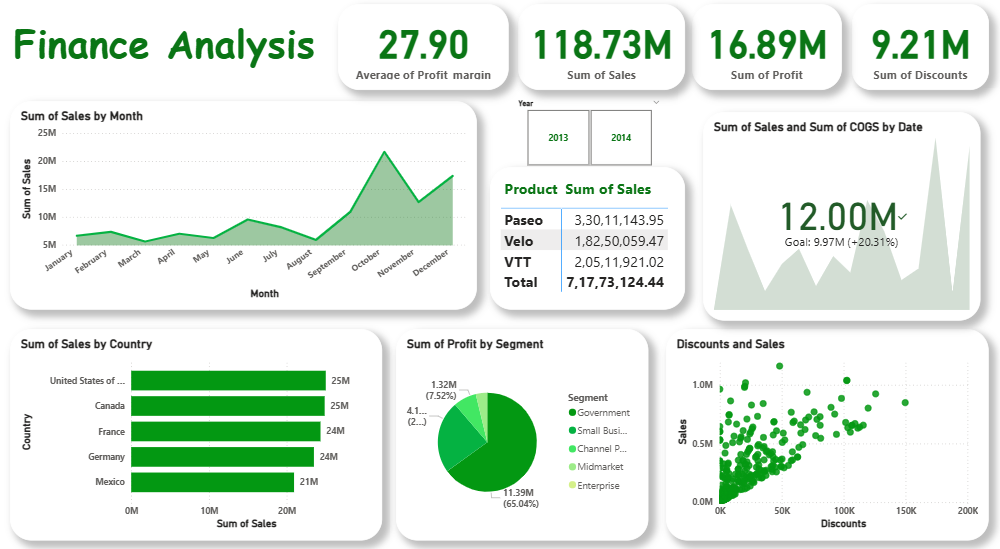

What the dashboard file says about the page in this screenshot:
{"tool":"powerbi","page":{"name":"Page 1","canvas":[1400,800],"ordinal":0},"visuals":[{"type":"barChart","fields":{"Category":["financials.Country"],"Y":["Sum(financials.Sales)"]},"box":[20.1,478.9,519.1,294.7],"z":0},{"type":"pieChart","fields":{"Category":["financials.Segment"],"Y":["Sum(financials.Profit)"]},"box":[557.7,478.9,351.7,294.7],"z":1000},{"type":"areaChart","fields":{"Category":["financials.Date.Variation.Date Hierarchy.Month"],"Y":["Sum(financials.Sales)"]},"box":[20.1,160.8,651.4,291.4],"z":2000},{"type":"scatterChart","fields":{"Y":["financials.Sales"],"X":["financials.Discounts"]},"box":[934.4,478.9,450.5,294.7],"z":3000},{"type":"kpi","fields":{"Indicator":["Sum(financials.Sales)"],"TrendLine":["financials.Date"],"Goal":["Sum(financials.COGS)"]},"box":[986.4,175.8,386.8,291.4],"z":4000},{"type":"textbox","box":[19.5,36.3,496.4,115.7],"z":5000},{"type":"slicer","fields":{"Values":["financials.Year"]},"box":[715.3,152,223.1,104.6],"z":6000},{"type":"pivotTable","fields":{"Rows":["financials.Product"],"Values":["Sum(financials.Sales)"]},"box":[688.8,252.4,271.9,199.4],"z":7000},{"type":"card","fields":{"Values":["Sum(financials.Discounts)"]},"box":[1193.6,25.1,191,119.9],"z":8000},{"type":"card","fields":{"Values":["Sum(financials.Profit)"]},"box":[970.5,25.1,209.2,119.9],"z":9000},{"type":"card","fields":{"Values":["Sum(financials.Sales)"]},"box":[727.9,25.1,232.9,119.9],"z":10000},{"type":"card","fields":{"Values":["Avg(financials.Profit_margin)"]},"box":[476.9,25.1,238.4,119.9],"z":11000}]}

Visuals, with their boxes on the page's 1400x800 design canvas (x1, y1, x2, y2). These are canvas units, not pixel positions in the 1000x549 screenshot, which may show the page scaled, cropped or inside an application window:
barChart - financials.Country x Sum(financials.Sales): [left=20, top=479, right=539, bottom=774]
pieChart - financials.Segment x Sum(financials.Profit): [left=558, top=479, right=909, bottom=774]
areaChart - financials.Date.Variation.Date Hierarchy.Month x Sum(financials.Sales): [left=20, top=161, right=672, bottom=452]
scatterChart - financials.Sales x financials.Discounts: [left=934, top=479, right=1385, bottom=774]
kpi - Sum(financials.Sales) x financials.Date: [left=986, top=176, right=1373, bottom=467]
textbox: [left=20, top=36, right=516, bottom=152]
slicer - financials.Year: [left=715, top=152, right=938, bottom=257]
pivotTable - financials.Product x Sum(financials.Sales): [left=689, top=252, right=961, bottom=452]
card - Sum(financials.Discounts): [left=1194, top=25, right=1385, bottom=145]
card - Sum(financials.Profit): [left=970, top=25, right=1180, bottom=145]
card - Sum(financials.Sales): [left=728, top=25, right=961, bottom=145]
card - Avg(financials.Profit_margin): [left=477, top=25, right=715, bottom=145]
